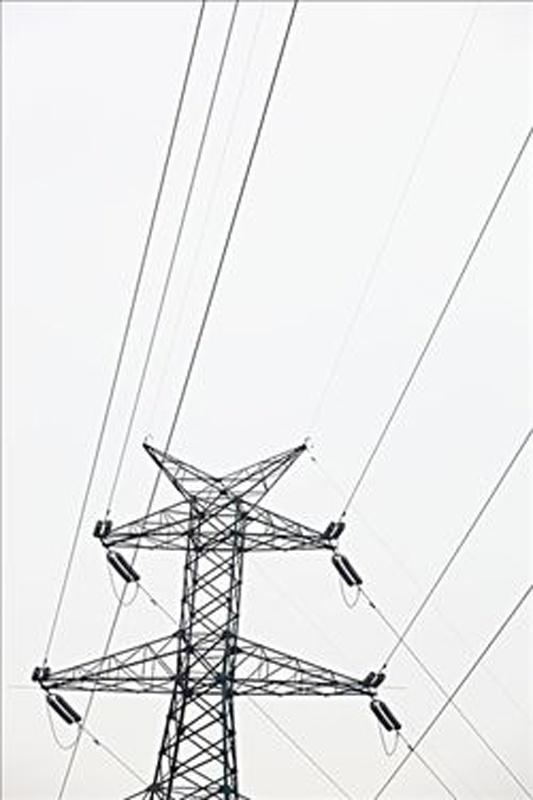power_tower: (31, 439, 388, 794)
